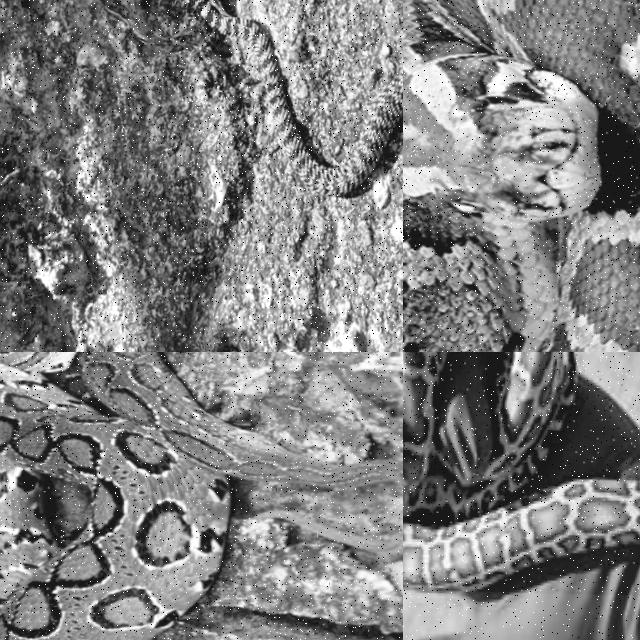Chrysopelea ornata: (184, 0, 402, 195)
Daboia siamensis: (0, 352, 402, 639)
Python bivittatus: (403, 0, 639, 351), (403, 352, 639, 590)
